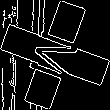M_E: (23, 24, 87, 86)
